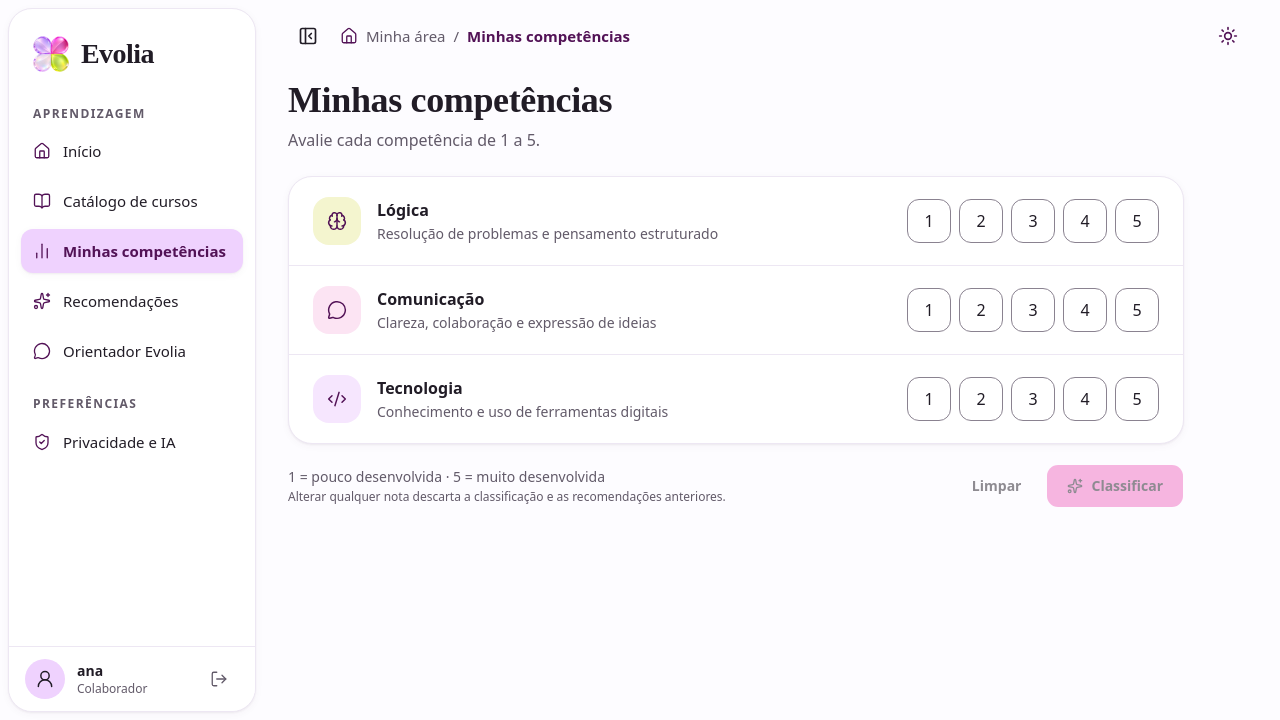
classificação de competências › permite escolher a nota pelo teclado
expect the button "Classificar" is shown: met, box [1046,464,1184,508]
Click the radio button labelled "3" in the row of "Lógica": point(1033, 221) [1011,199,1055,243]
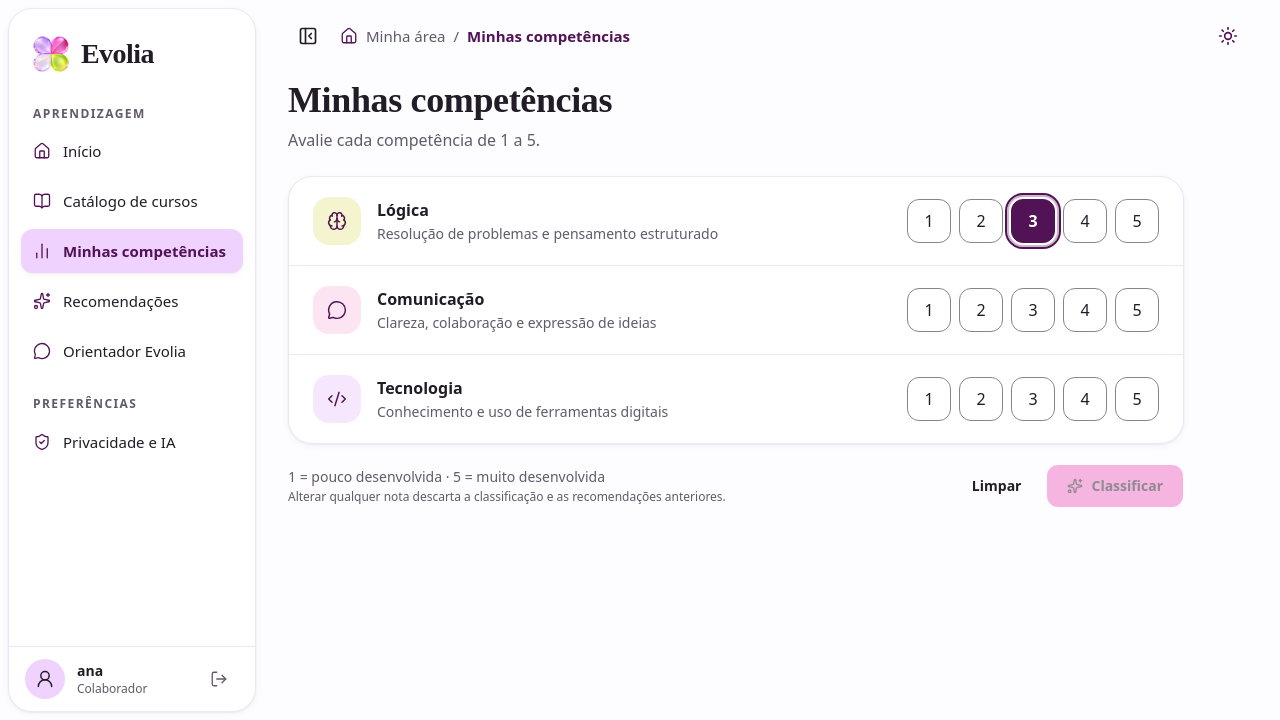
Press Arrowright
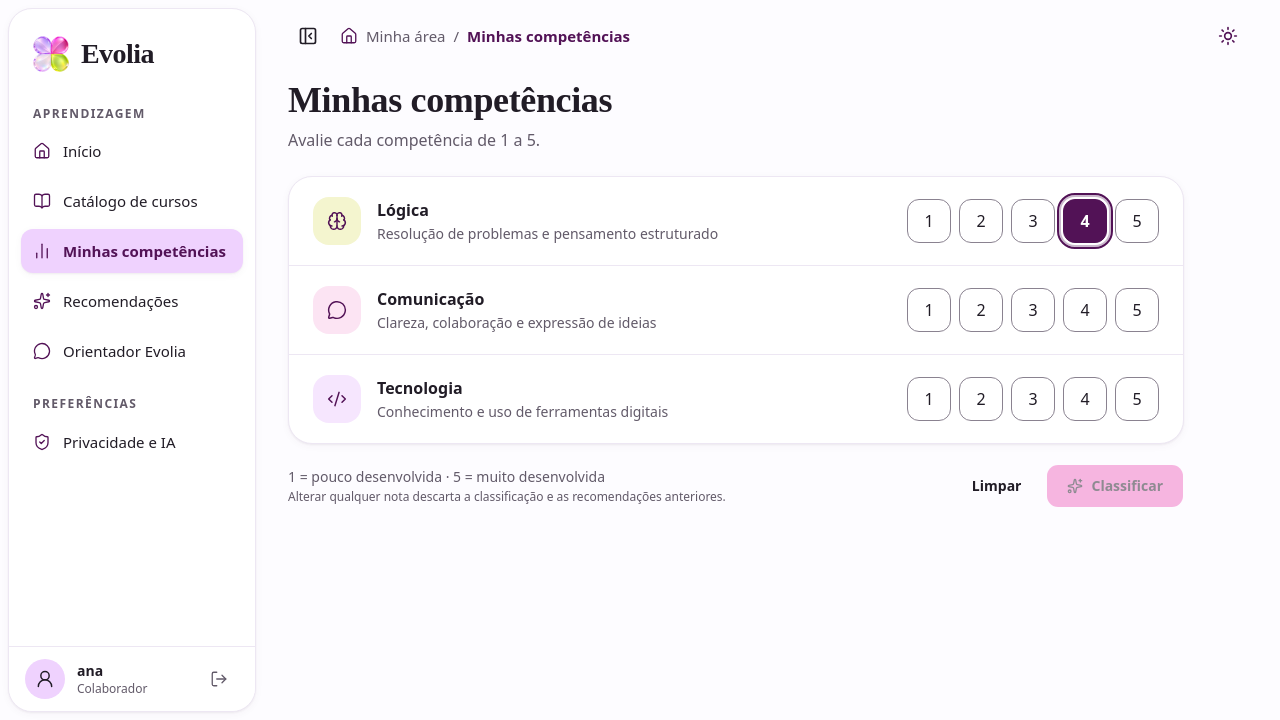
expect the radio button labelled "4" in the row of "Lógica" is checked: met, box [1063,199,1107,243]
